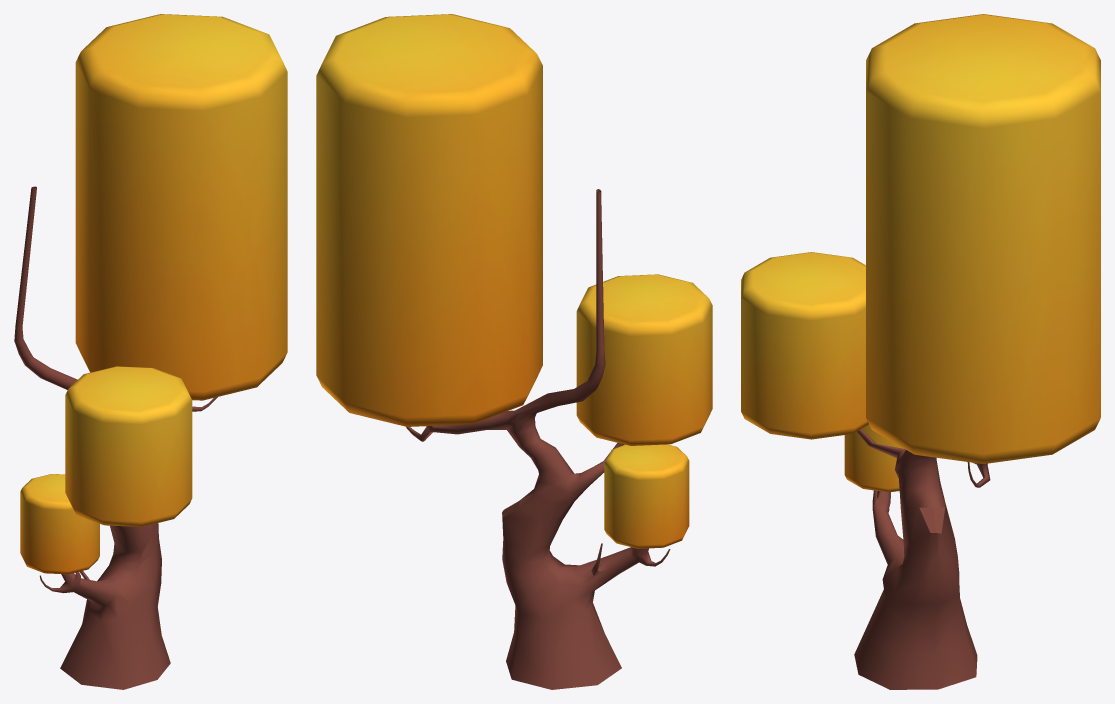
File: SM_Tree_14.fbx
The picture shows the model from 3 angles, left to right: view 1: azimuth 30°, elevation 25°; view 2: azimuth 150°, elevation 25°; view 3: azimuth 270°, elevation 25°; orthographic projection. The views are drawn at different scales.
Parts seen in each view (by area): view 1: SM_Tree_14; view 2: SM_Tree_14; view 3: SM_Tree_14.
Part boxes in pixels (x1=…): SM_Tree_14: x1=14, y1=14, x2=287, y2=689; SM_Tree_14: x1=316, y1=14, x2=712, y2=689; SM_Tree_14: x1=741, y1=14, x2=1100, y2=689.
Bounding box in the file's own units: 745 × 1403 × 693.
